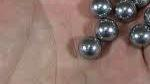ironball: (93, 17, 121, 43), (77, 33, 102, 61), (113, 0, 135, 23), (129, 22, 149, 46), (87, 0, 111, 17), (144, 3, 149, 31)
